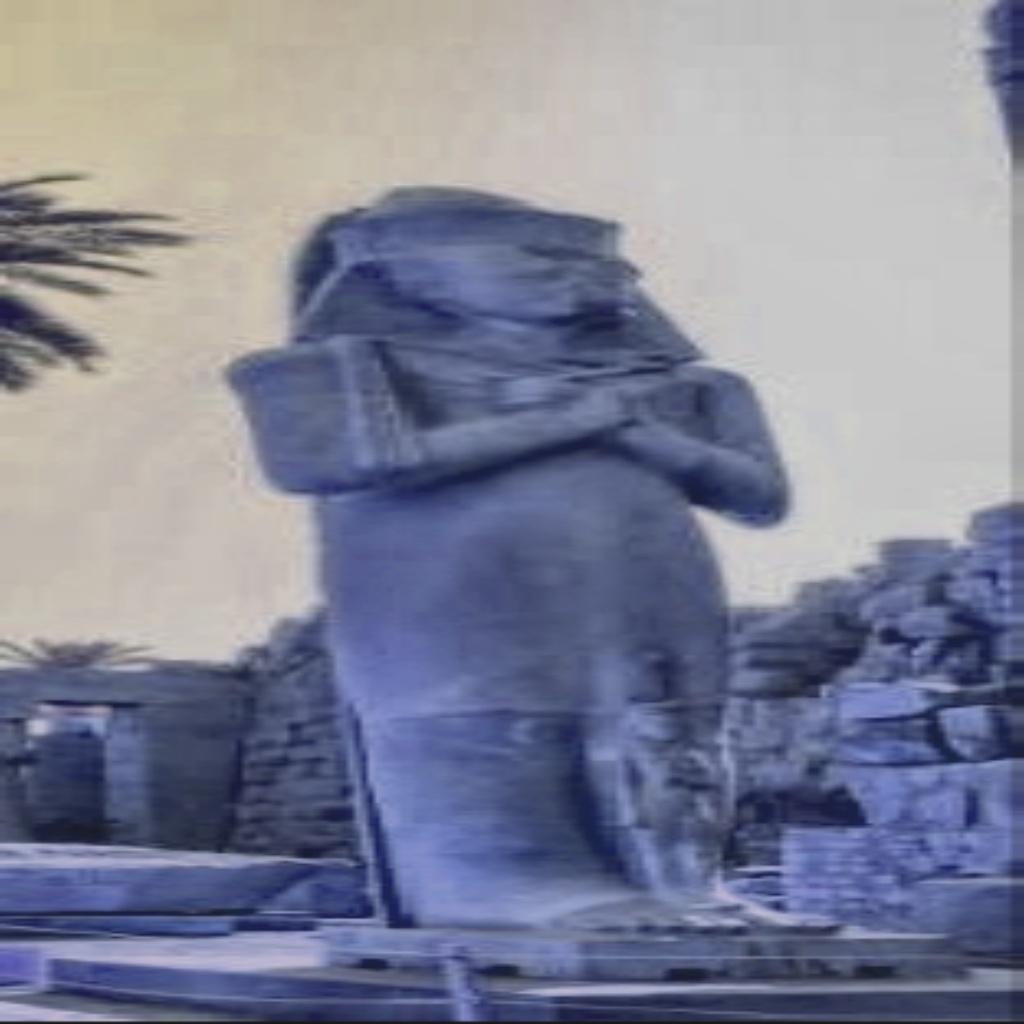Standing Statue of King Ramses II: (216, 181, 840, 936)
